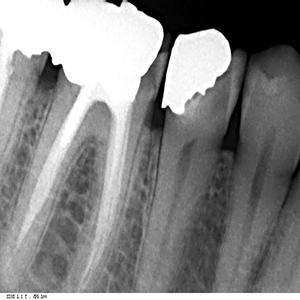tooth: (12, 3, 166, 272), (146, 29, 244, 276), (222, 42, 299, 282)
